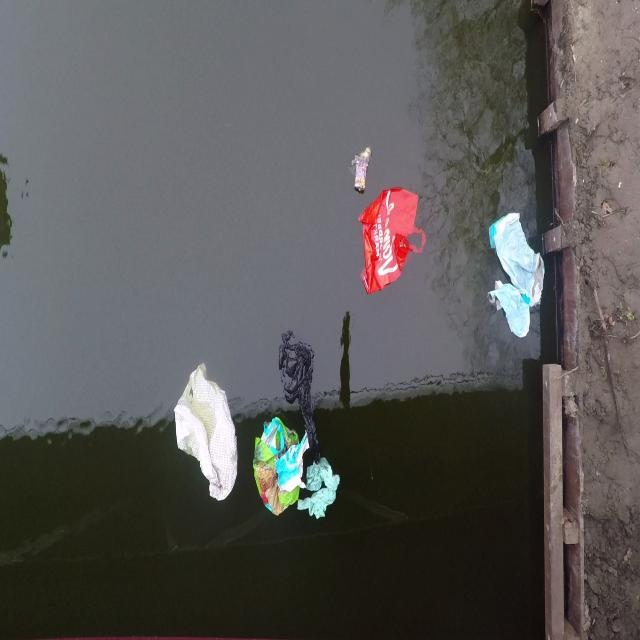Sac plastique: (170, 362, 243, 508), (355, 187, 429, 306), (484, 206, 542, 346), (250, 424, 309, 524), (273, 325, 320, 433), (298, 454, 343, 530)
